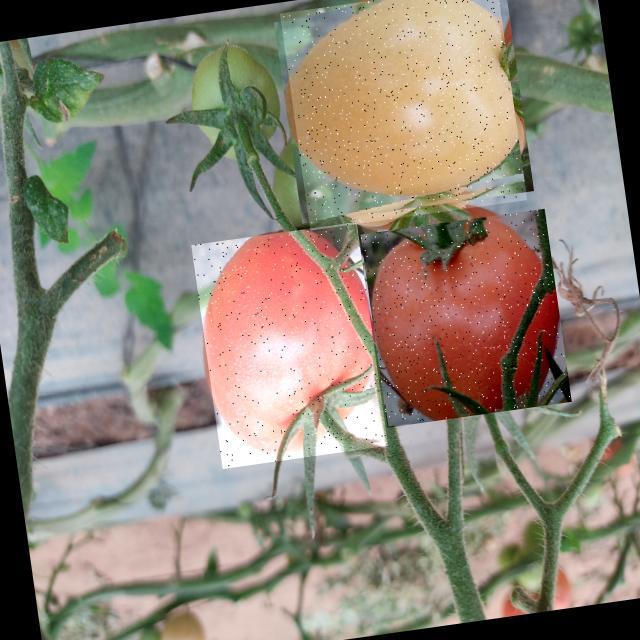Ripe Tomato: (191, 222, 388, 468), (360, 208, 572, 428)
Unripe Tomato: (280, 0, 527, 230)
